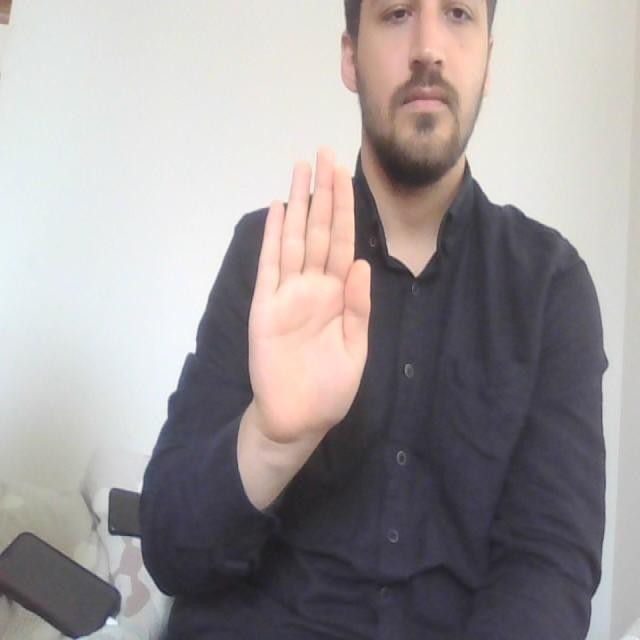Dur: (226, 97, 403, 432)
